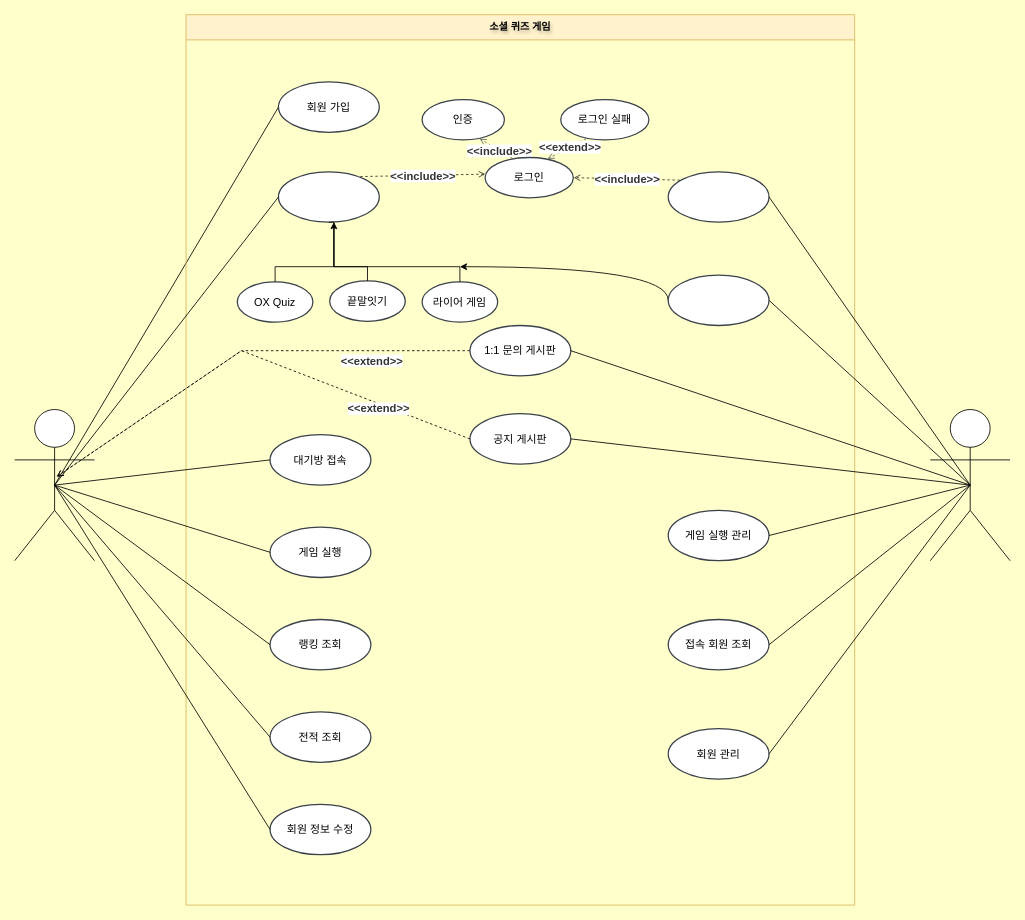
Some shapes in this 1025 by 920 pixel diagram are drawn without their labels. The centre of each missing label's shape, as x and y in pixels:
"게임 문제 관리" goes at [718,300].
"게임선택" goes at [328,196].
"고객" goes at [54,485].
"관리자" goes at [969,485].
"관리자 페이지 접속" goes at [718,196].
